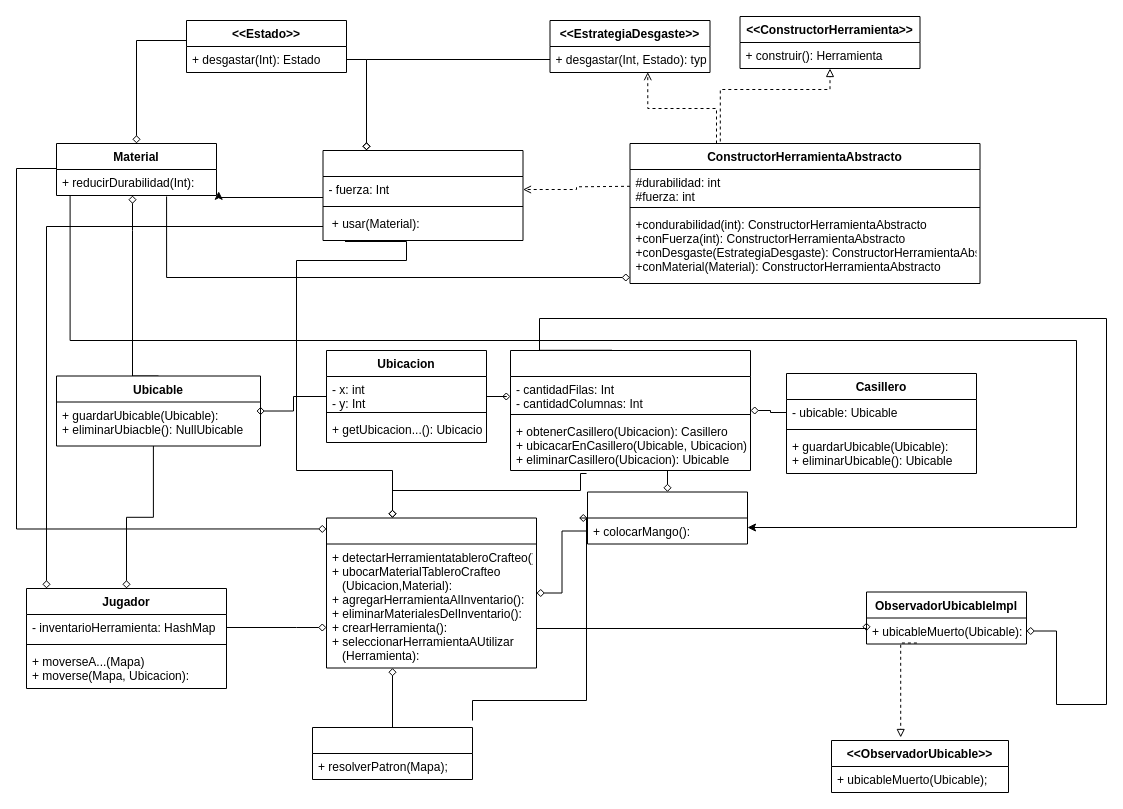
Image size: 1123x809. Some labels were removed from this diagram. Each missing label, with the box of its shape:
DetectorPatron: (312, 726, 472, 780)
Herramienta: (322, 150, 523, 240)
Juego: (326, 517, 536, 668)
Mapa: (510, 350, 750, 470)
Patron: (586, 491, 748, 544)
